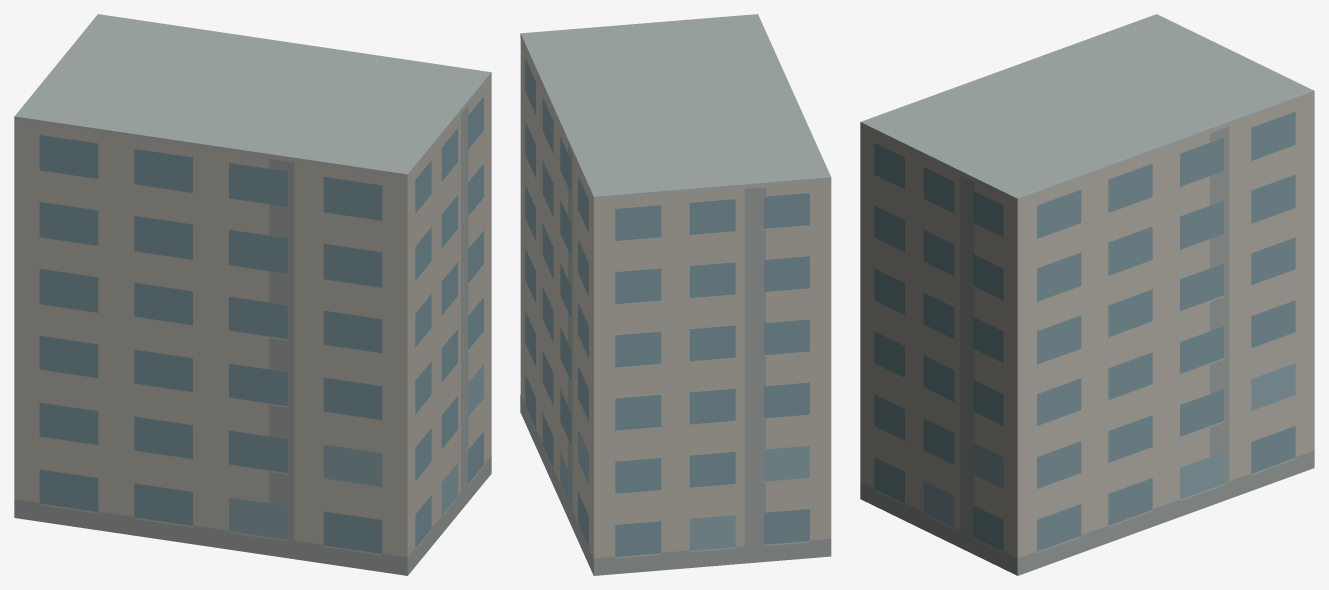
The model's file is survey-upis-32628907.glb.
3 renders of one model, left to right at view 1: azimuth 30°, elevation 25°; view 2: azimuth 150°, elevation 25°; view 3: azimuth 270°, elevation 25°, orthographic. The views are drawn at different scales.
Parts seen in each view (by area): view 1: survey-upis-32628907.tmp; view 2: survey-upis-32628907.tmp; view 3: survey-upis-32628907.tmp.
Part boxes in pixels (left/top/right/bottom): survey-upis-32628907.tmp: left=14, top=14, right=491, bottom=575; survey-upis-32628907.tmp: left=520, top=14, right=831, bottom=575; survey-upis-32628907.tmp: left=860, top=14, right=1314, bottom=575.
Bounding box in the file's own units: 20.91 × 19.9 × 21.73.
